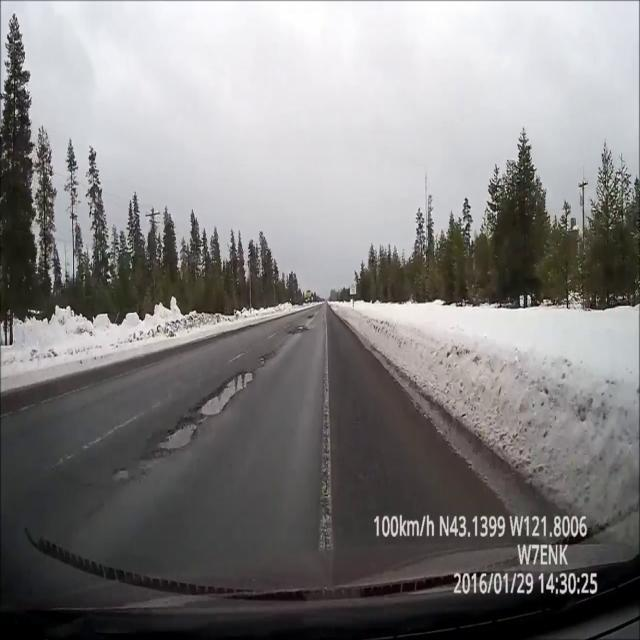Pothole: (195, 372, 254, 416), (156, 419, 202, 451), (290, 325, 307, 337), (308, 314, 314, 319)
